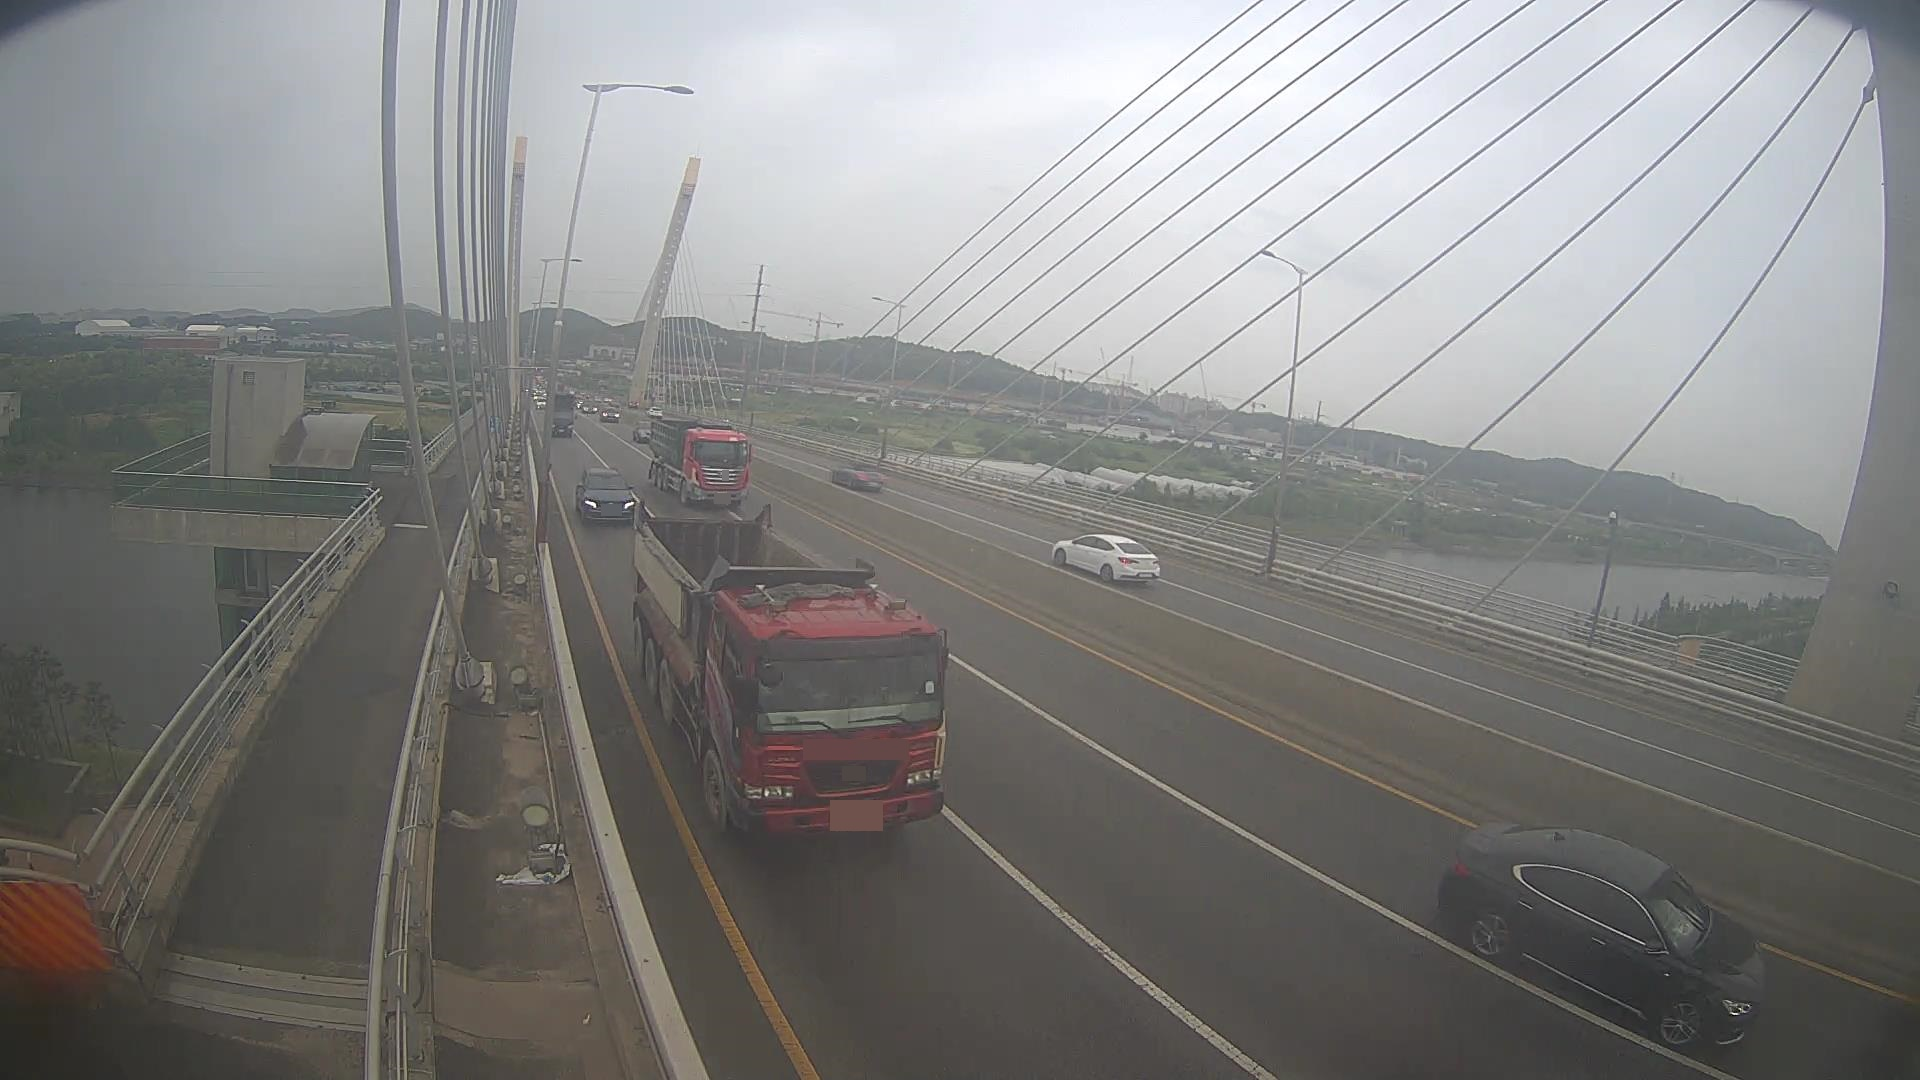정상차량: (632, 498, 949, 837)
